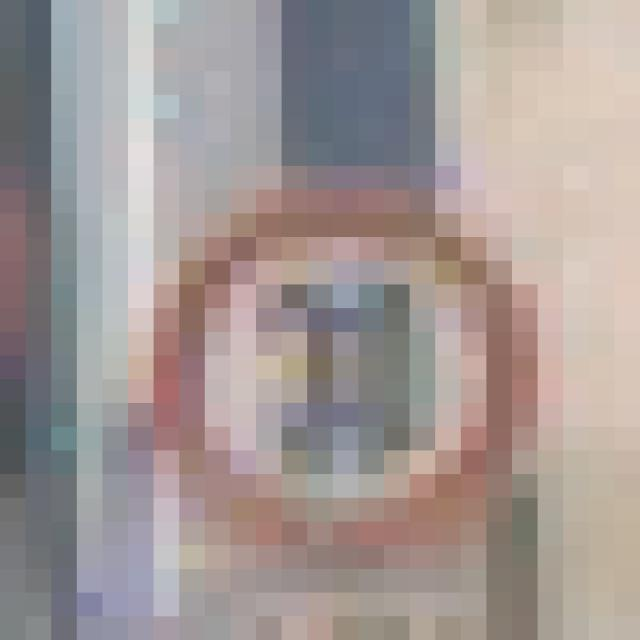Speed Limit -30-: (115, 106, 499, 486)
